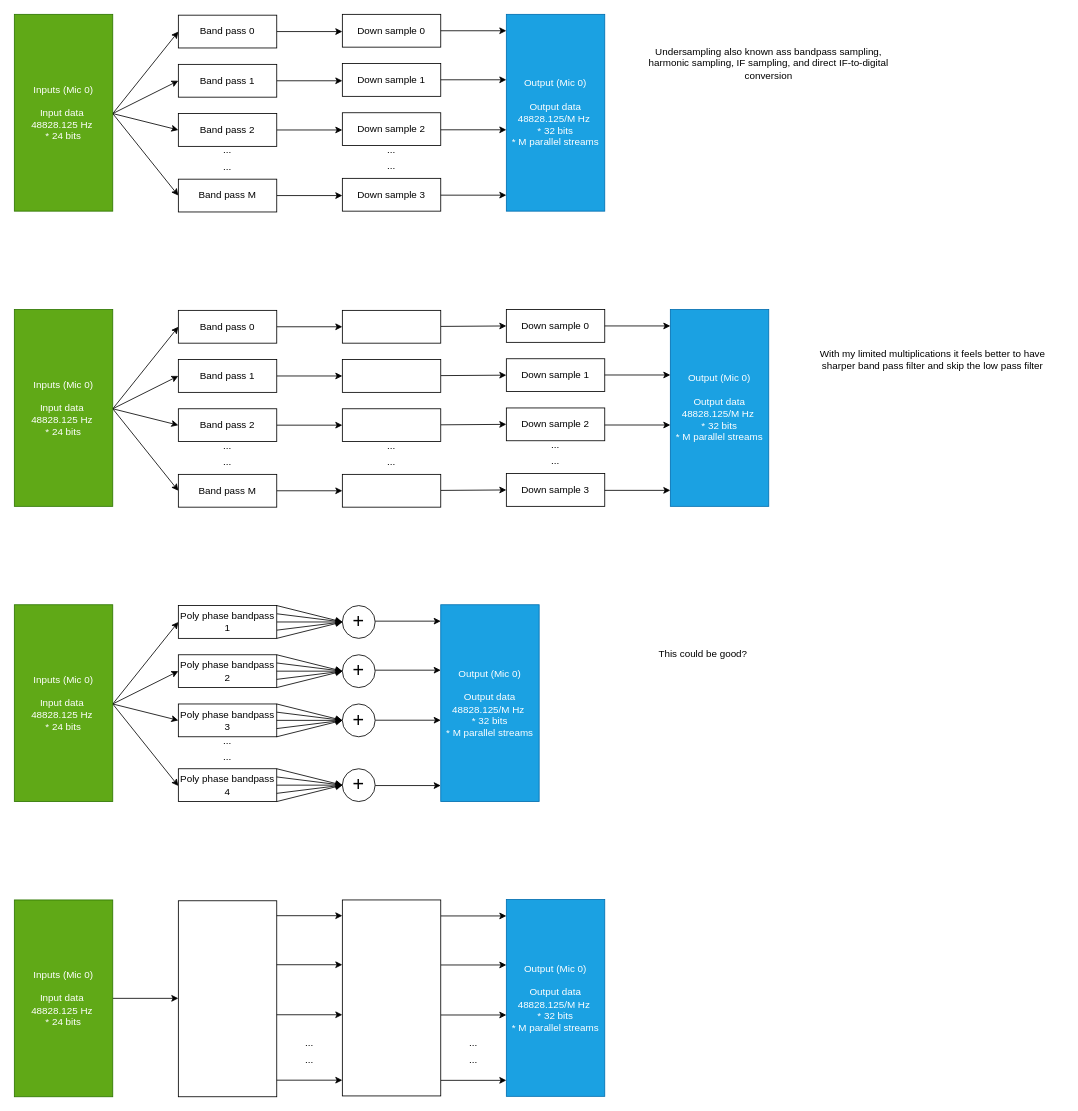
This 1078x1111 diagram has some shape labels left out. Here are the shapes that lost their labels. From the top down, the centre of each, then its label:
point 391,326: Low pass 0
point 391,375: Low pass 1
point 391,425: Low pass 2
point 391,490: Low pass M
point 227,998: Poly phase filter To M subbands
point 391,997: M point FFT
